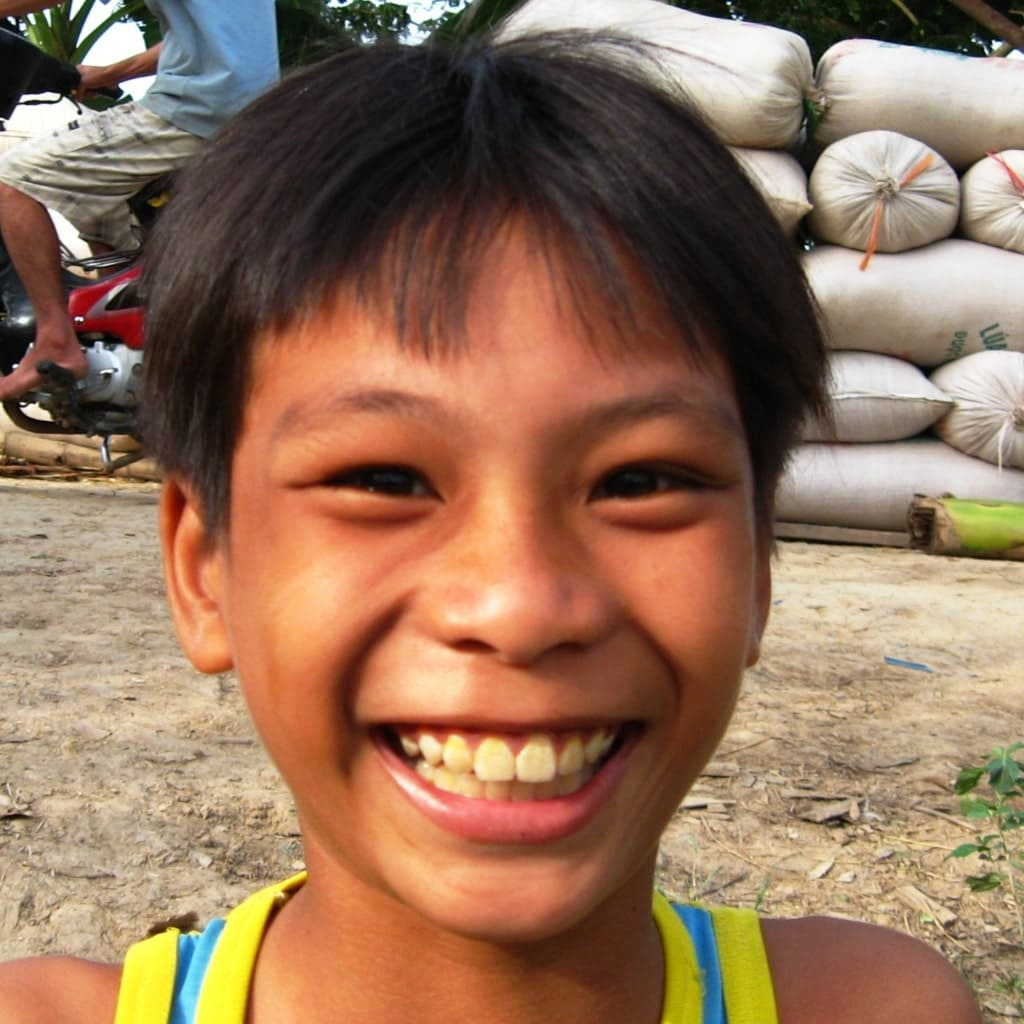without_mask: (250, 284, 742, 875)
